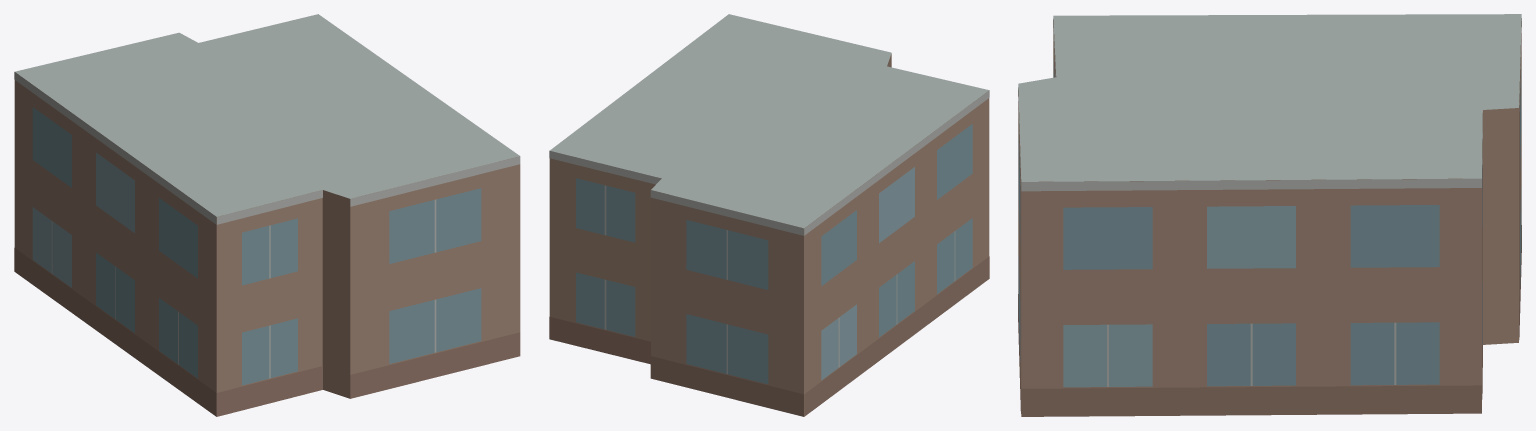
File: survey-upis-32613899.glb
The picture shows the model from 3 angles, left to right: view 1: azimuth 30°, elevation 25°; view 2: azimuth 150°, elevation 25°; view 3: azimuth 270°, elevation 25°; orthographic projection. The views are drawn at different scales.
Parts seen in each view (by area): view 1: survey-upis-32613899.tmp; view 2: survey-upis-32613899.tmp; view 3: survey-upis-32613899.tmp.
Boxes of the visible parts, box(x1,y1,x2,y2) form: survey-upis-32613899.tmp: box(14, 14, 520, 416); survey-upis-32613899.tmp: box(549, 14, 989, 416); survey-upis-32613899.tmp: box(1018, 14, 1521, 416).
Bounding box in the file's own units: 9.36 × 6.1 × 11.86.
